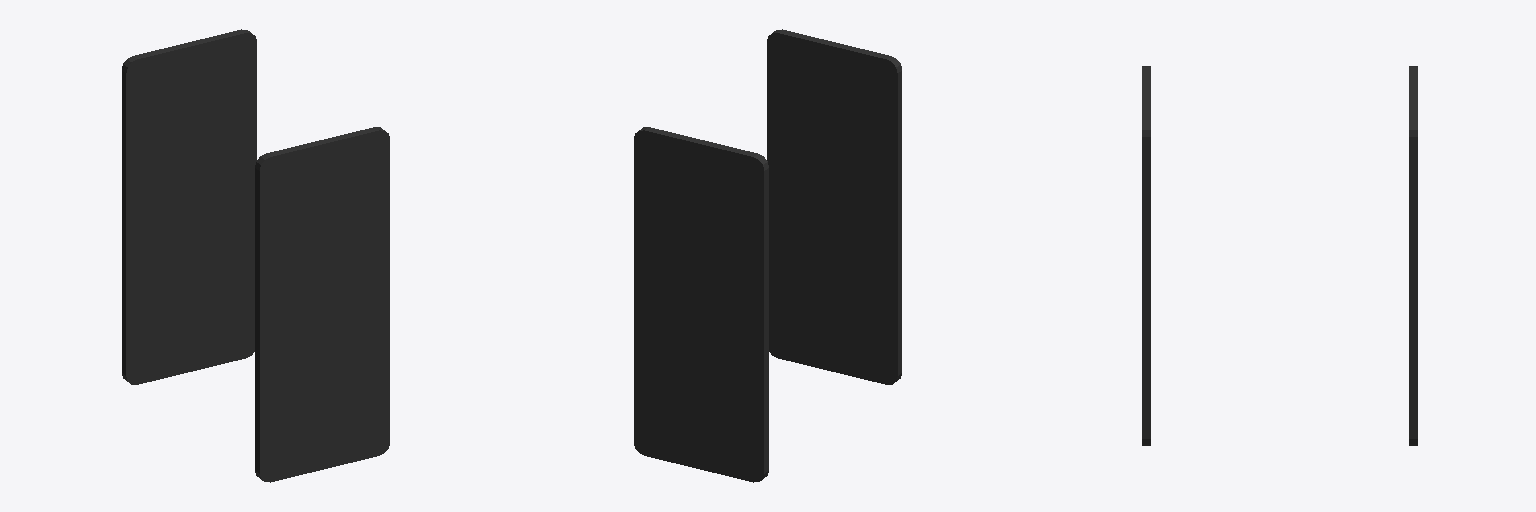
Rendered from Knee_1__1_mesh_0.obj.
The picture shows the model from 3 angles: view 1: azimuth 30°, elevation 25°; view 2: azimuth 150°, elevation 25°; view 3: azimuth 270°, elevation 25°; orthographic projection.
Size of the model in its own units: 0.024 by 0.057 by 0.0438.